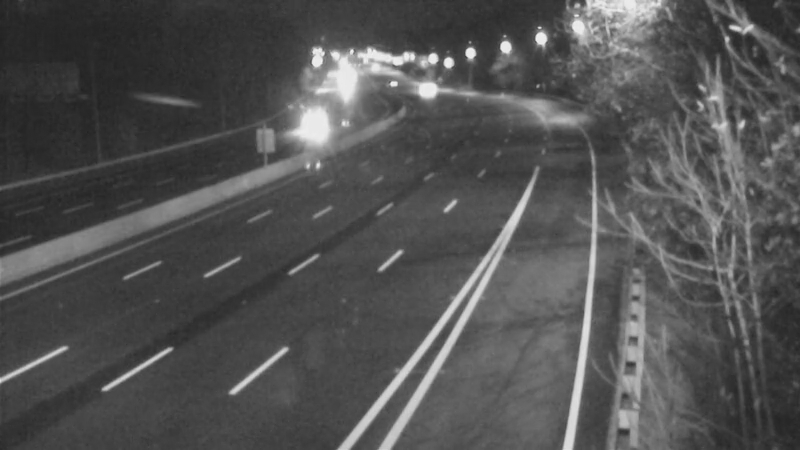vehicle: (367, 58, 417, 108), (396, 63, 446, 113), (287, 101, 337, 151), (321, 63, 371, 113)
